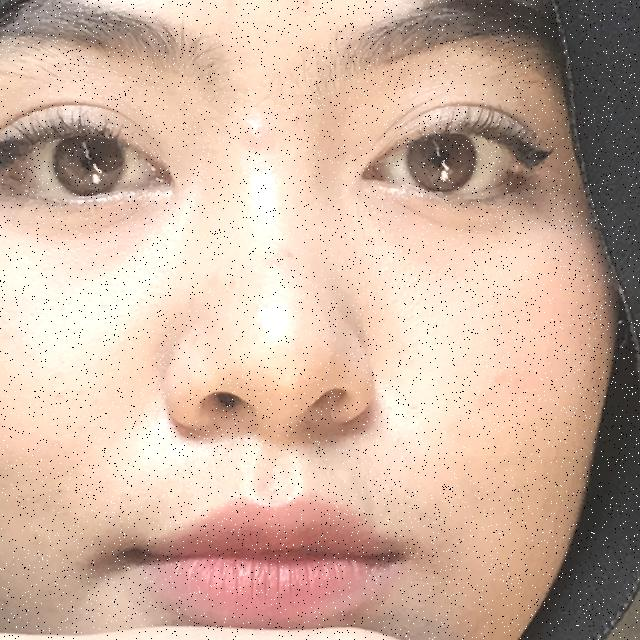sedih: (0, 456, 640, 640)
